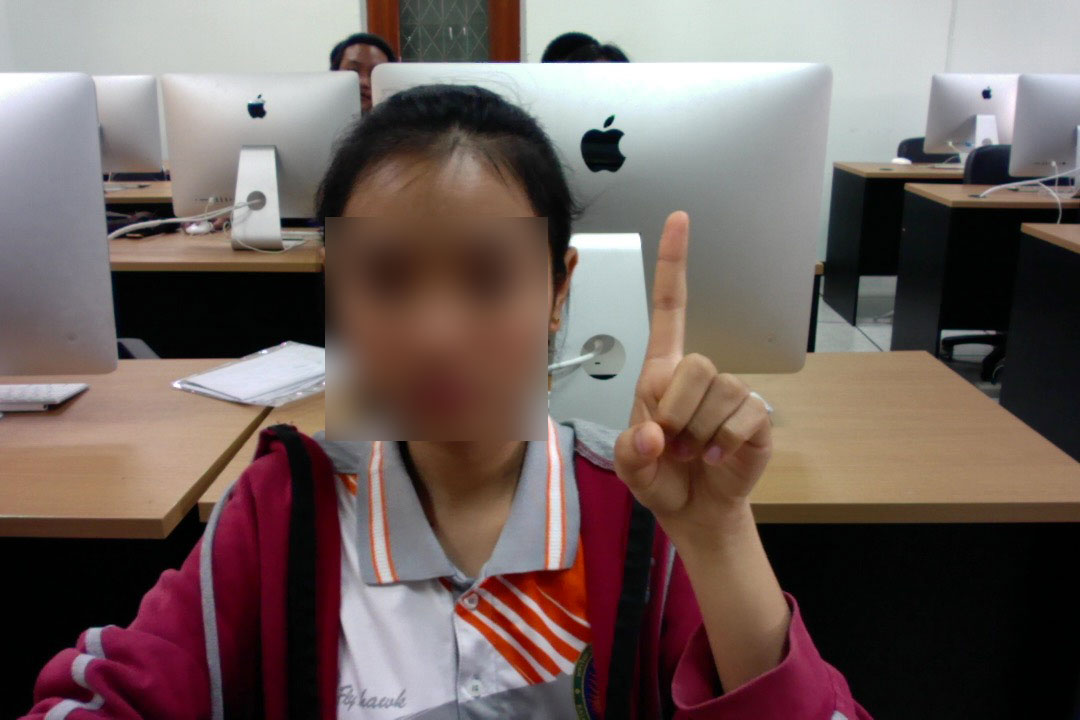dor: (603, 200, 782, 529)
